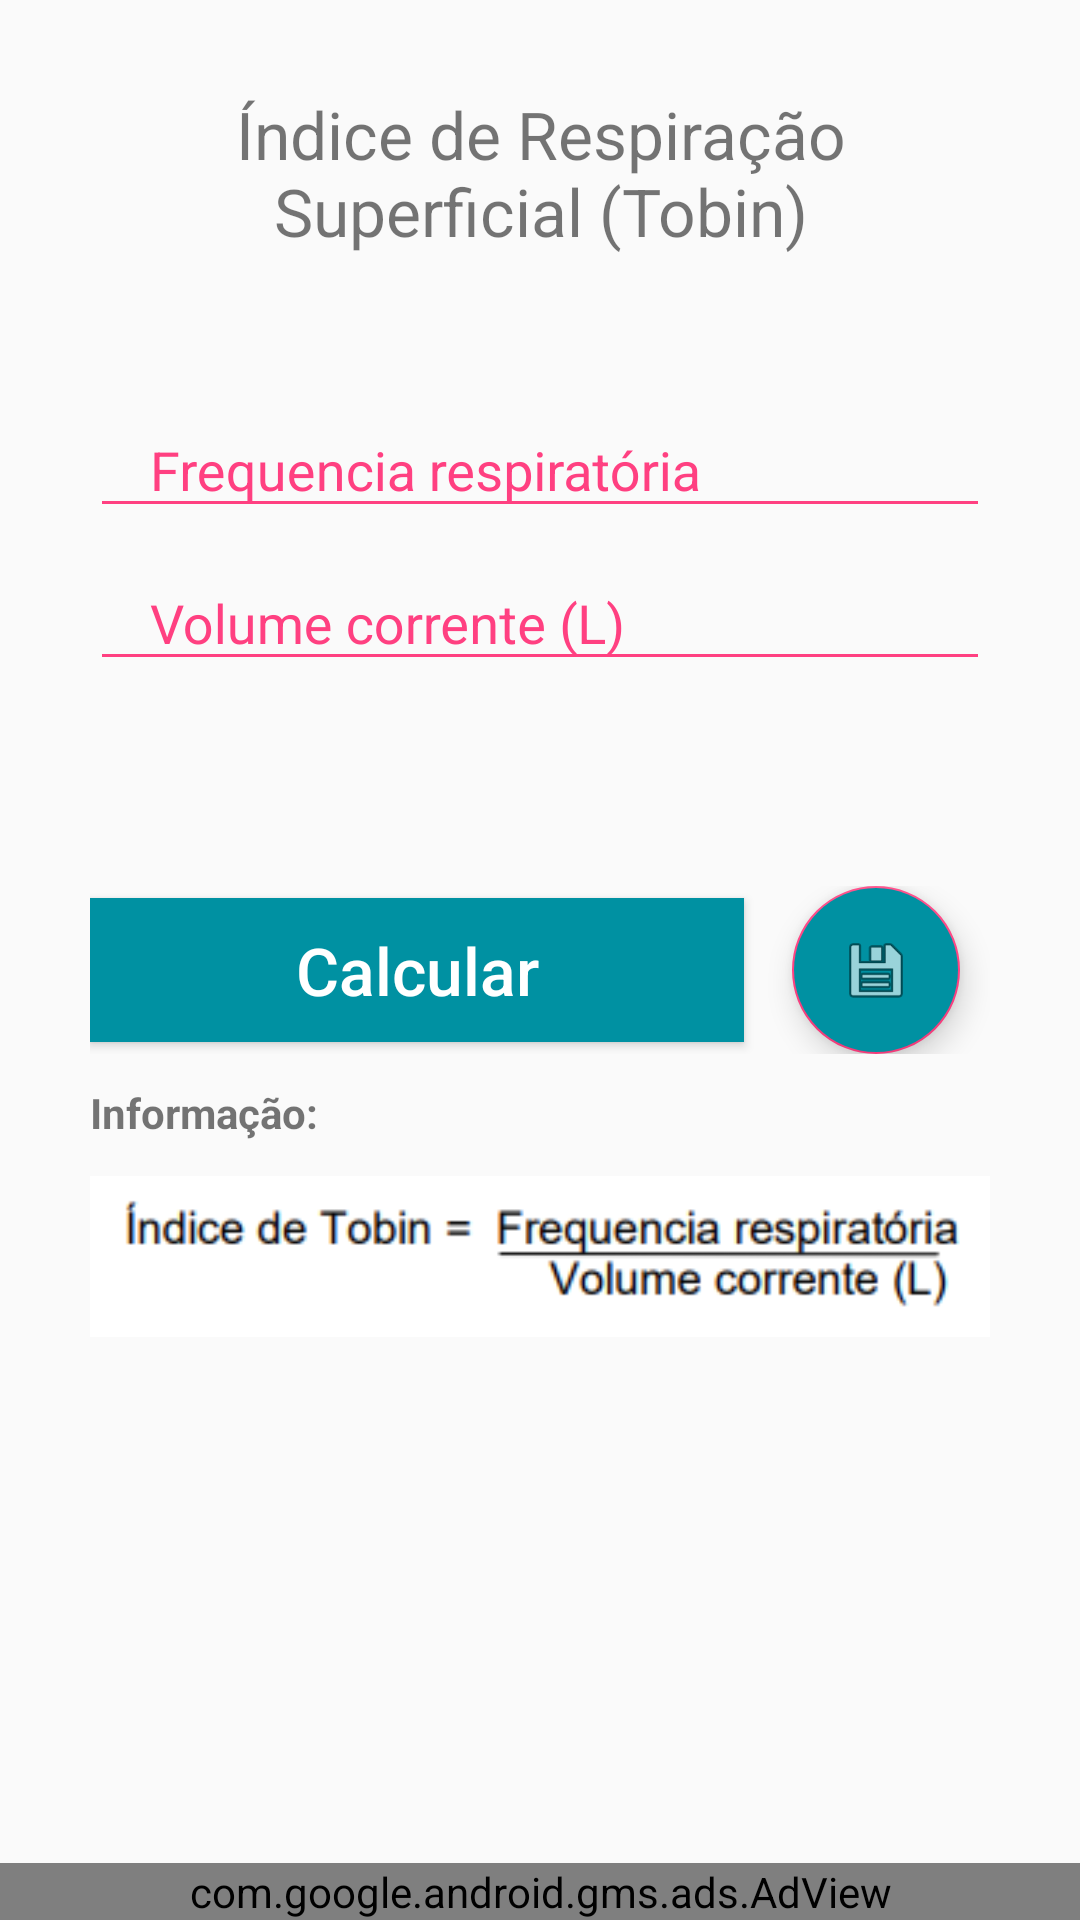

Where icons sit on this 1080px x 1920px app screen, as box=[x1, y1, x2, y2]:
save: box=[792, 886, 960, 1054]
